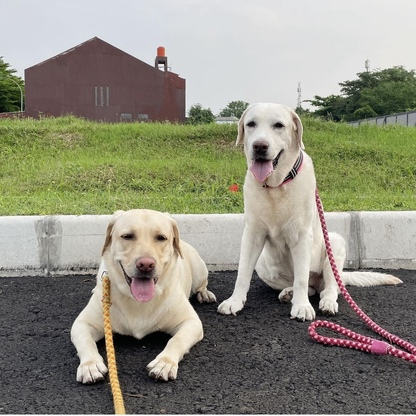labrado: (216, 97, 406, 327), (67, 206, 219, 389)
